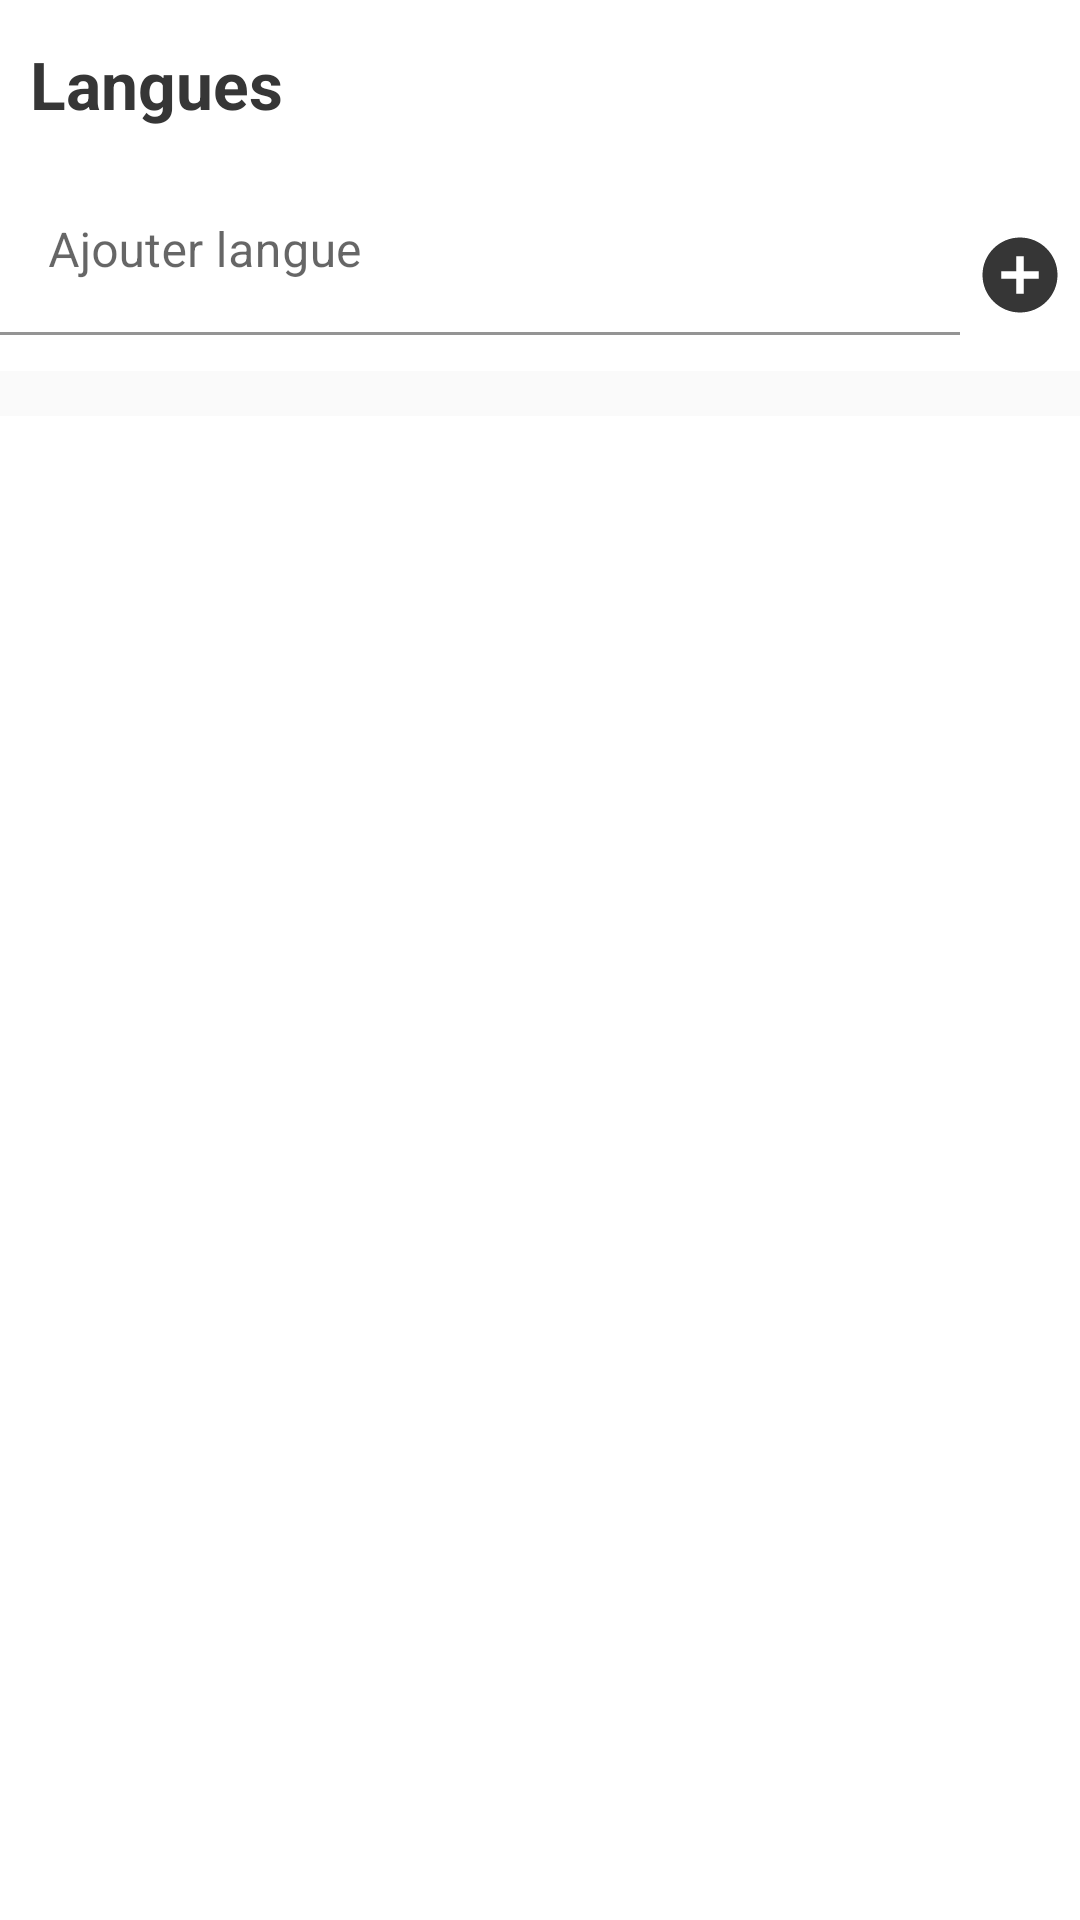

Icons on this 1080px×1920px Android screen, each with the point to tap as (x,y):
add circle: (1020,275)
